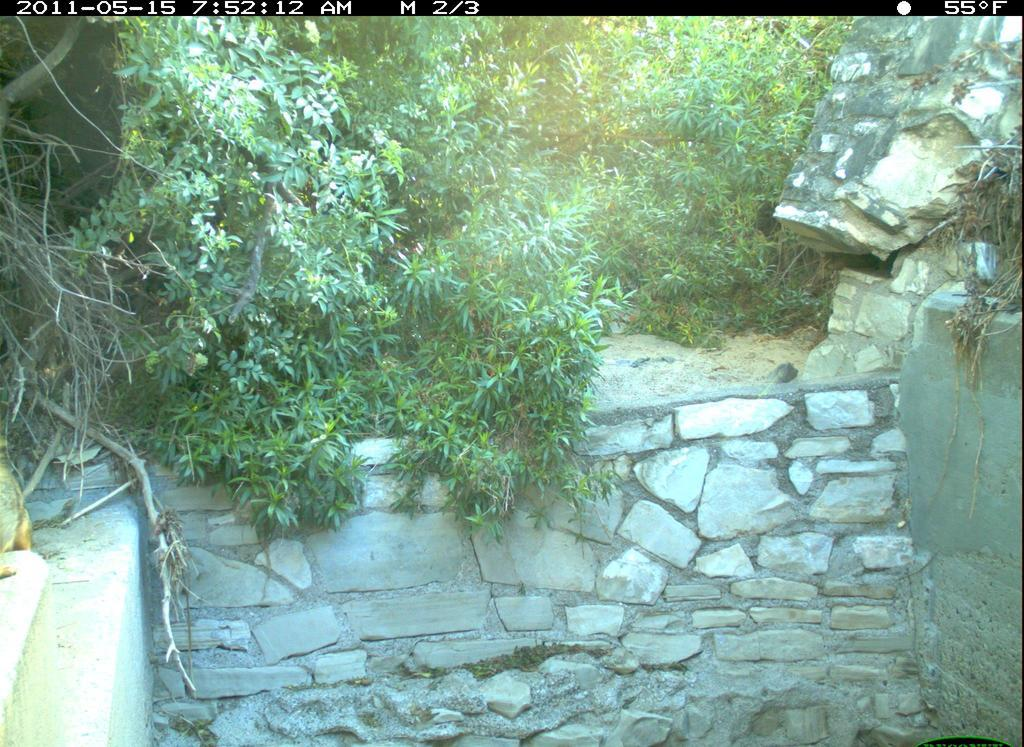squirrel: (2, 457, 41, 564)
